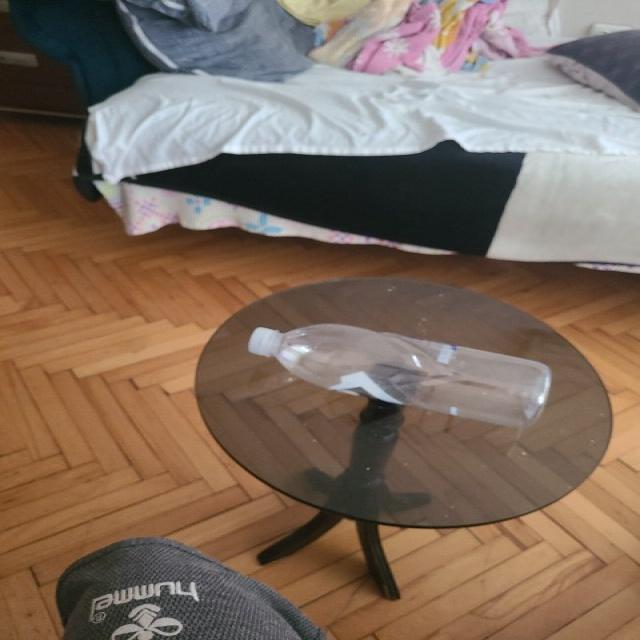bottle: (248, 324, 552, 430)
